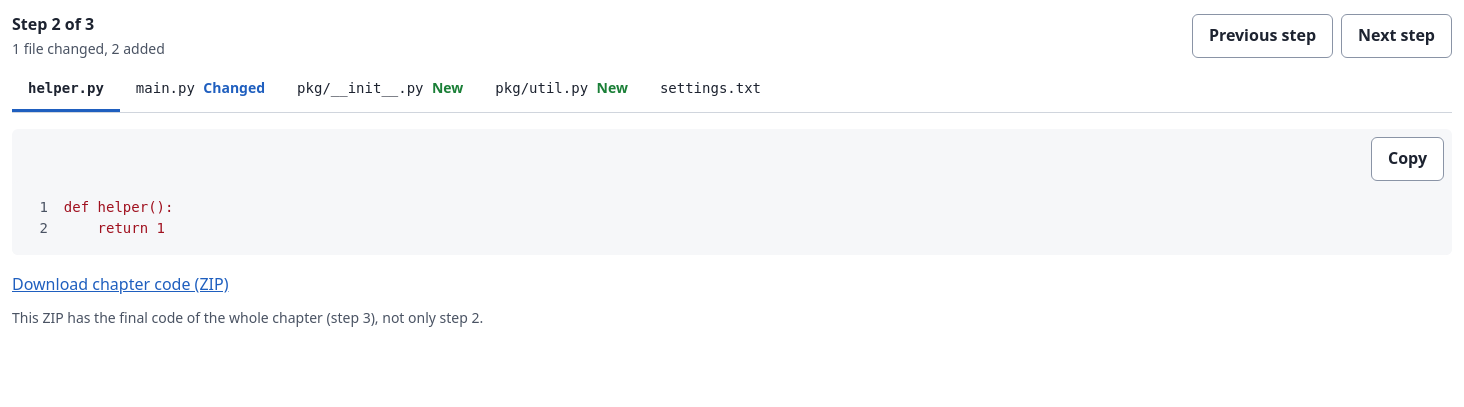
Test: files and tabs › shows only the selected file's code, in a focusable area named by the file path
Expected: the element named "Files in step 2" is shown, [12,68,1452,113]
Click the tab "main.py Changed": click(200, 90) [120,68,281,112]
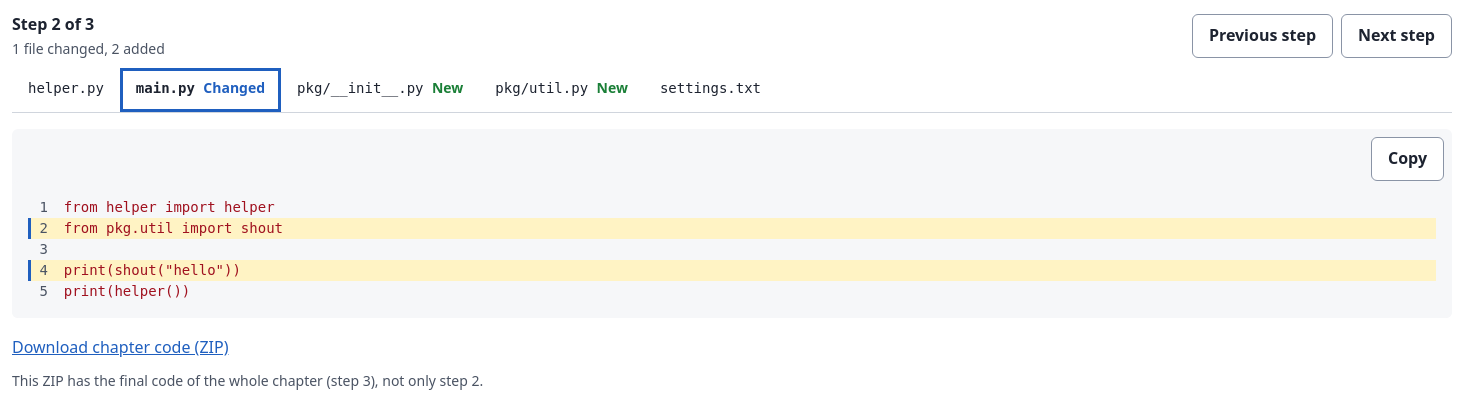
Expected: the number of elements with class "code-area" is 1, [12,181,1452,318]
Now the element named "main.py" is shown, box [12,181,1452,318]
